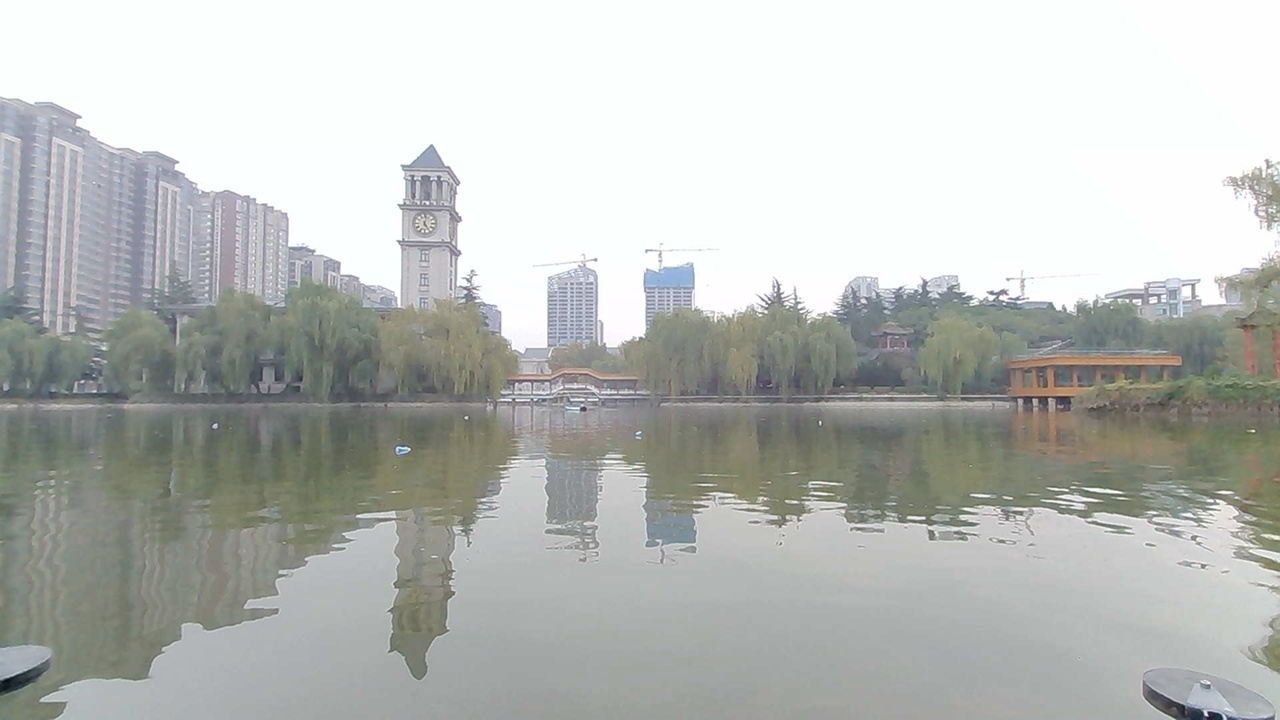bottle: (626, 418, 660, 445), (193, 411, 231, 435), (803, 410, 833, 436), (386, 443, 423, 464), (452, 402, 481, 424)
